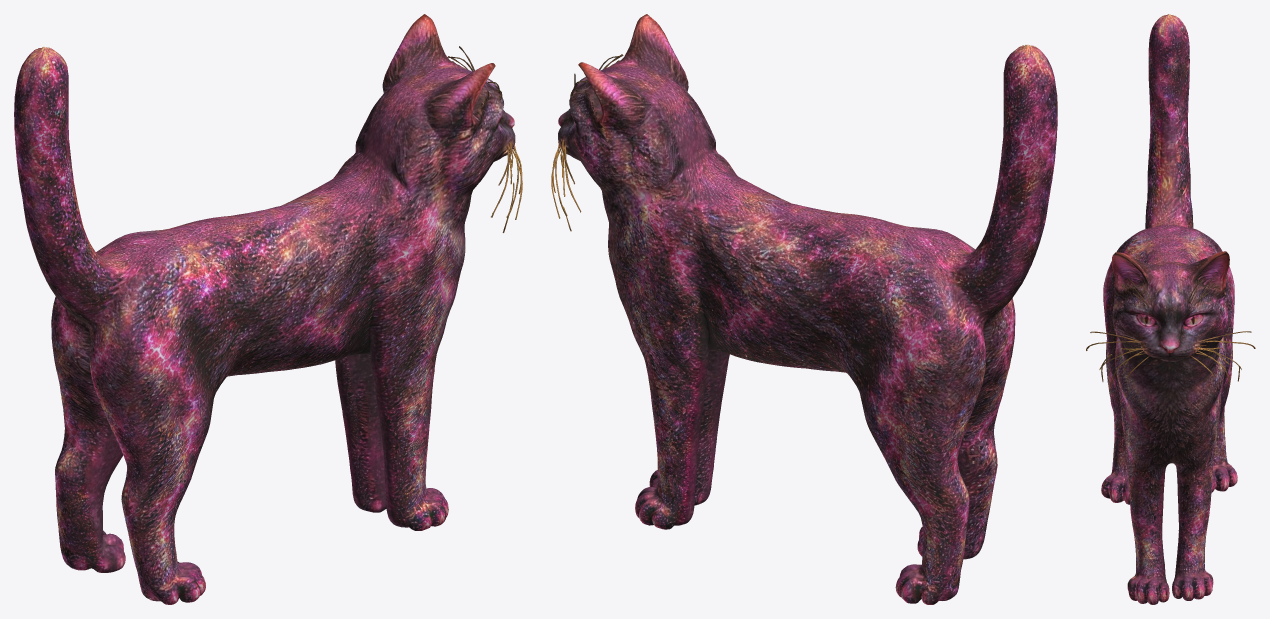
Rendered from QCGENESIS.glb.
3 renders of one model, left to right at view 1: azimuth 30°, elevation 25°; view 2: azimuth 150°, elevation 25°; view 3: azimuth 270°, elevation 25°, orthographic. The views are drawn at different scales.
Parts seen in each view (by area): view 1: tripo_node_d3b328d3-f7c9-4e61-a23d-5fe4dee88dbc; view 2: tripo_node_d3b328d3-f7c9-4e61-a23d-5fe4dee88dbc; view 3: tripo_node_d3b328d3-f7c9-4e61-a23d-5fe4dee88dbc.
Part boxes in pixels (x1,y1,x2,y2): tripo_node_d3b328d3-f7c9-4e61-a23d-5fe4dee88dbc: [14, 14, 522, 604]; tripo_node_d3b328d3-f7c9-4e61-a23d-5fe4dee88dbc: [551, 14, 1057, 604]; tripo_node_d3b328d3-f7c9-4e61-a23d-5fe4dee88dbc: [1086, 14, 1255, 604].
Bounding box in the file's own units: 0.9377 × 1 × 0.3478.
Materials: 1 (1 with a texture image).
